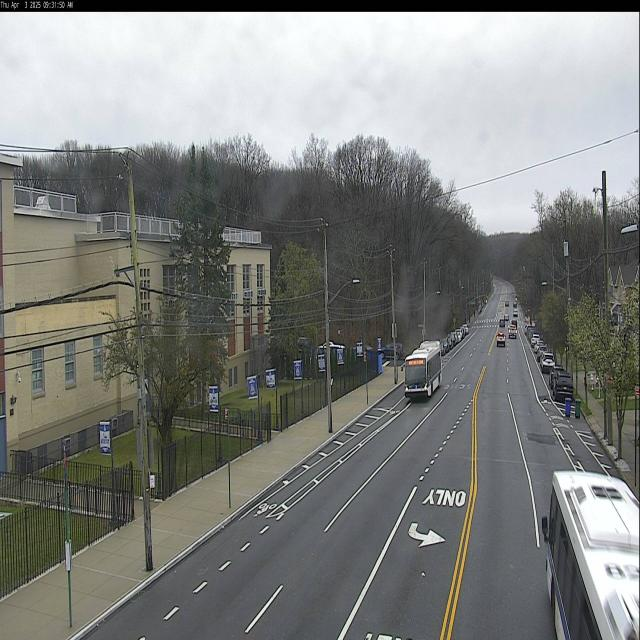open parking: (529, 326, 586, 426)
